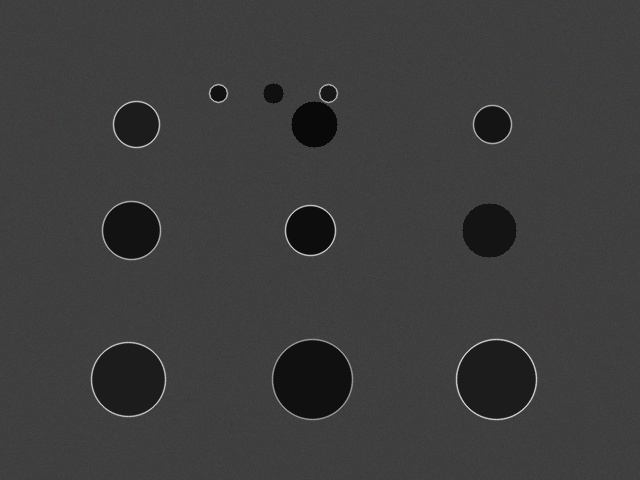hole: (272, 339, 352, 419), (456, 339, 536, 419), (91, 342, 165, 416), (102, 201, 160, 259), (462, 203, 516, 257), (285, 205, 335, 255), (113, 101, 159, 147), (291, 101, 337, 147), (473, 105, 511, 143), (263, 83, 283, 103), (209, 84, 227, 102), (319, 84, 337, 102)
